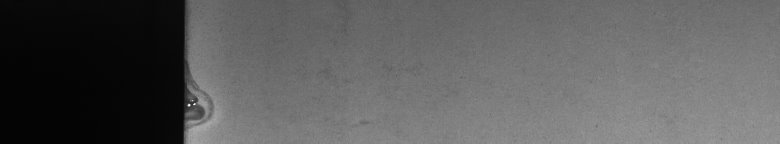hb: (196, 80, 220, 132)
